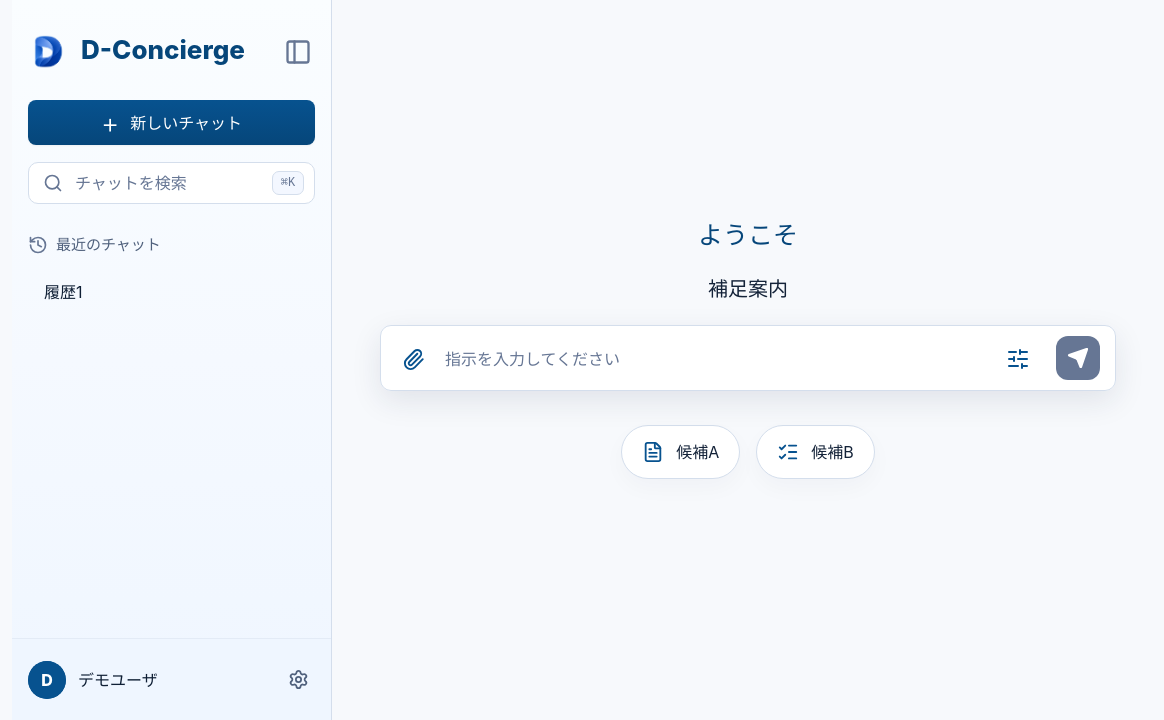
Test case: ChatPage integration › 観点：履歴詳細異常連携。確認：履歴詳細取得失敗を既存表示を保ったまま画面へ反映する。
The image size is (1164, 720).
Check: the heading "ようこそ" is shown, box [698,220,798,250]
Click the button "履歴1" at (63, 292), box [12,269,331,315]
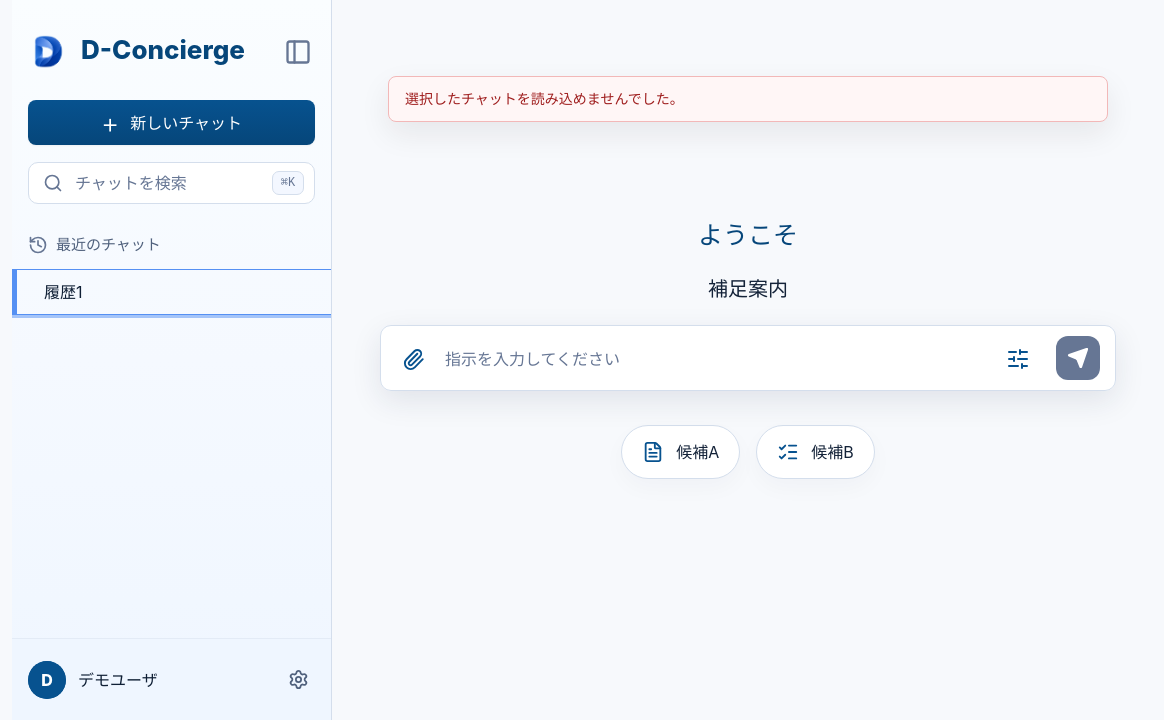
Check: the heading "ようこそ" is shown, box [698,220,798,250]
Check: the text "選択したチャットを読み込めませんでした。" is shown, box [388,76,1108,122]
